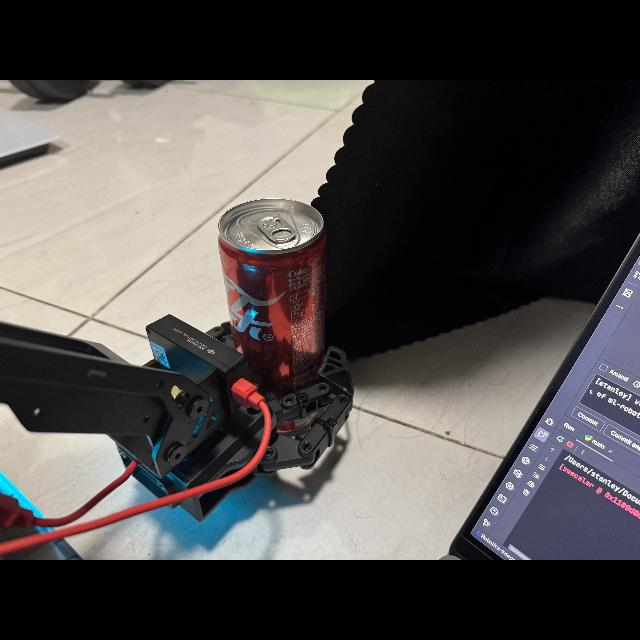Cola: (212, 190, 340, 372)
